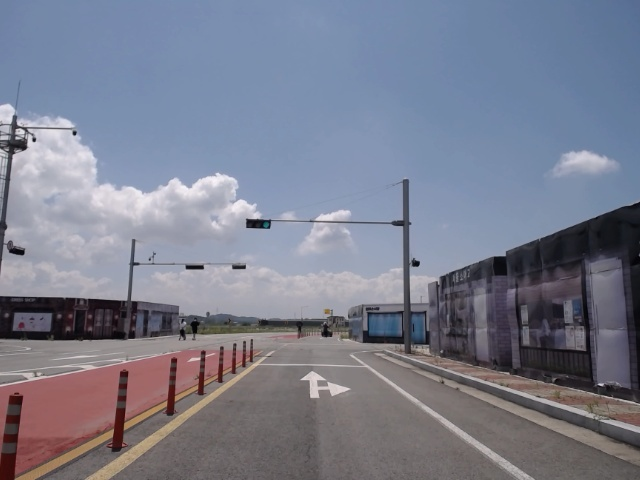green_3: (245, 219, 271, 228)
